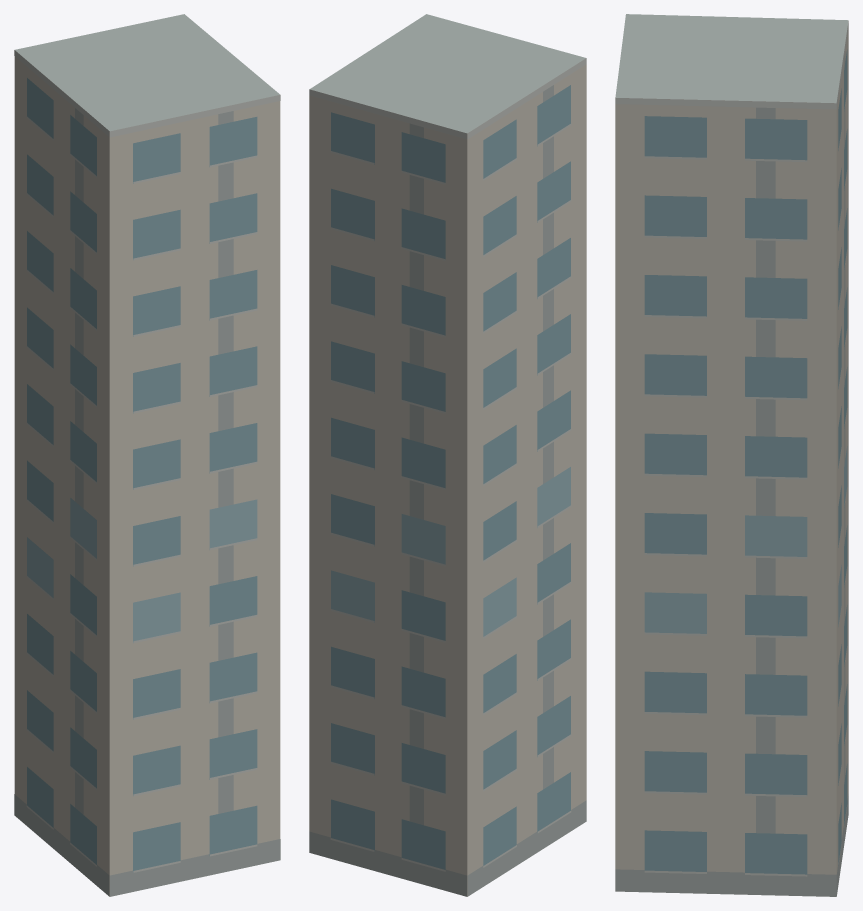
The model's file is survey-upis-32708815.glb.
3 renders of one model, left to right at view 1: azimuth 30°, elevation 25°; view 2: azimuth 150°, elevation 25°; view 3: azimuth 270°, elevation 25°, orthographic. The views are drawn at different scales.
Visible parts, largest first — view 1: survey-upis-32708815.tmp; view 2: survey-upis-32708815.tmp; view 3: survey-upis-32708815.tmp.
Part boxes in pixels (box(x1,y1,x2,y2)): survey-upis-32708815.tmp: box(14, 14, 280, 896); survey-upis-32708815.tmp: box(309, 14, 586, 896); survey-upis-32708815.tmp: box(615, 14, 848, 896).
Bounding box in the file's own units: 7.36 × 30.5 × 8.13.
